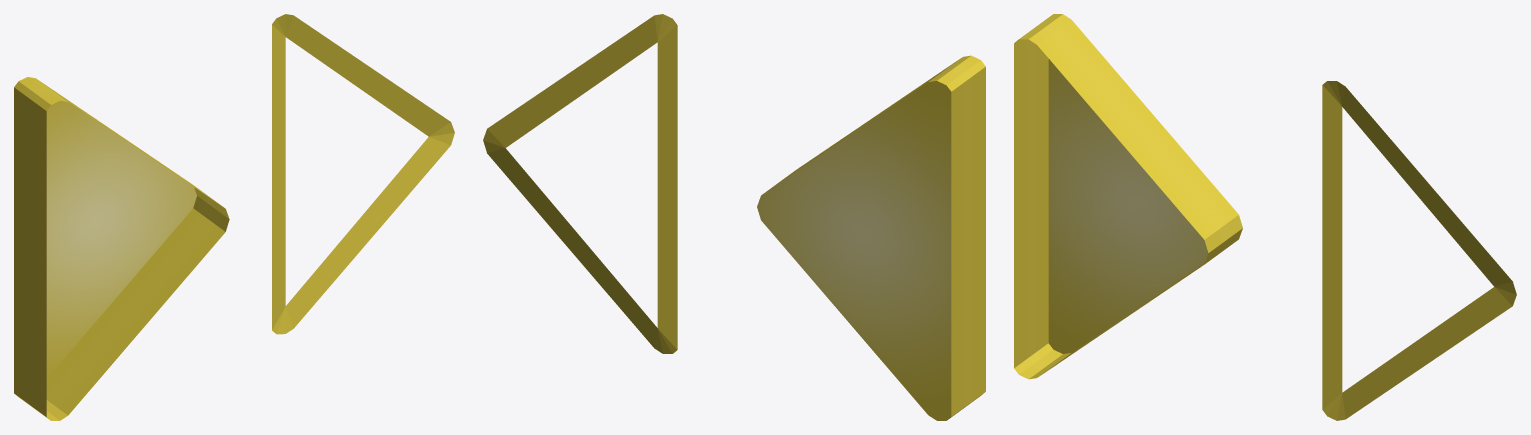
Rendered from Triangle.fbx.
3 views of the same model, side by side, from view 1: azimuth 30°, elevation 25°; view 2: azimuth 150°, elevation 25°; view 3: azimuth 330°, elevation 25° (orthographic). The views are drawn at different scales.
Parts seen in each view (by area): view 1: Button, Outline; view 2: Button, Outline; view 3: Button, Outline.
Part boxes in pixels (x1,y1,x2,y2): Button: (14,77,229,420); Outline: (272,14,454,334); Button: (757,55,985,420); Outline: (483,14,677,353); Button: (1014,14,1242,379); Outline: (1322,81,1516,420).
Bounding box in the file's own units: 1068 × 741 × 147.
